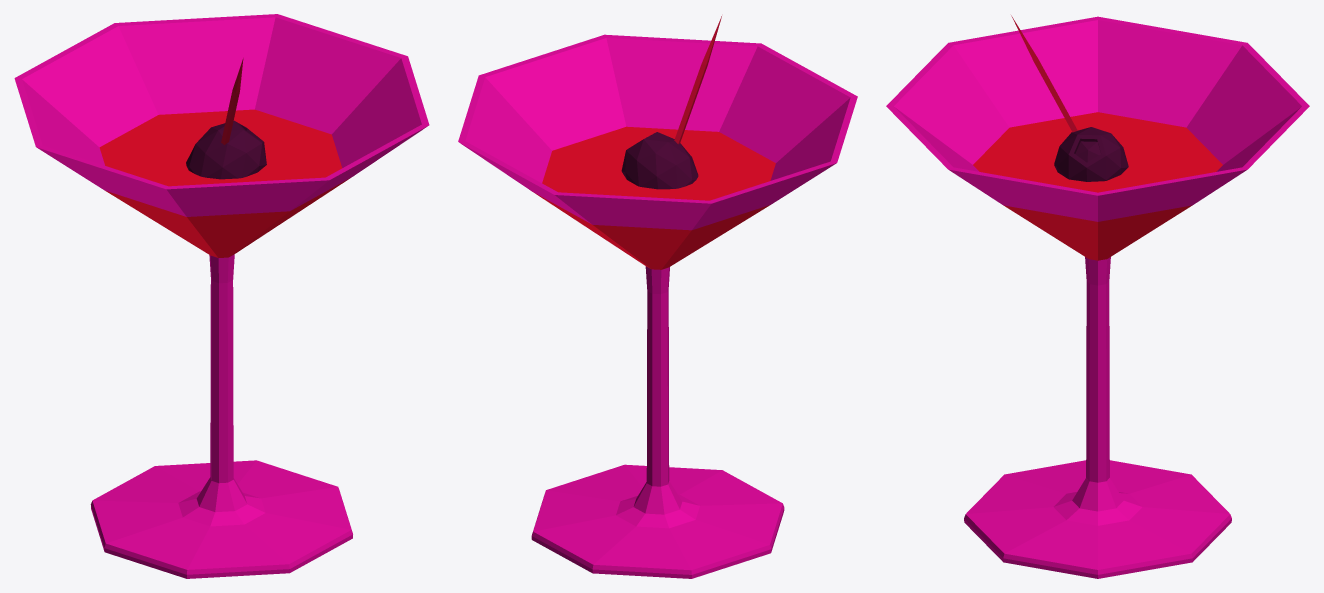
Rendered from Martini_01.fbx.
The picture shows the model from 3 angles, left to right: view 1: azimuth 30°, elevation 25°; view 2: azimuth 150°, elevation 25°; view 3: azimuth 270°, elevation 25°; orthographic projection. The views are drawn at different scales.
Visible parts, largest first — view 1: Martini_01; view 2: Martini_01; view 3: Martini_01.
Boxes of the visible parts, x1=… form: Martini_01: x1=14, y1=14, x2=429, y2=578; Martini_01: x1=458, y1=16, x2=857, y2=578; Martini_01: x1=886, y1=15, x2=1309, y2=578.
Bounding box in the file's own units: 4.03 × 5.22 × 4.03.
